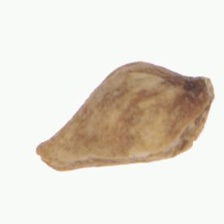L1: (189, 74, 217, 110), (35, 140, 60, 175)
L2: (35, 61, 215, 172)
